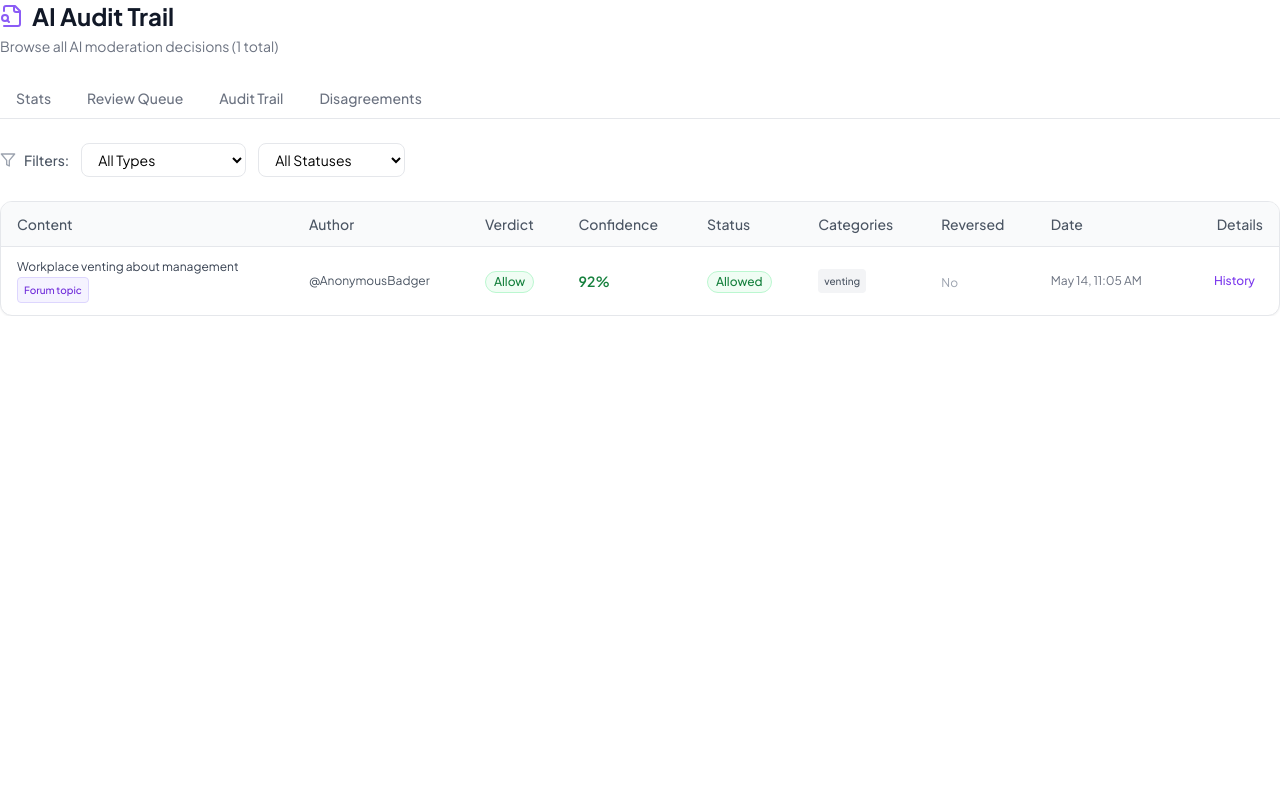
Test: AIAuditPage › opens detail modal with timeline on History click
Click the button "History" at (1234, 281), box 1206,269 -> 1263,293
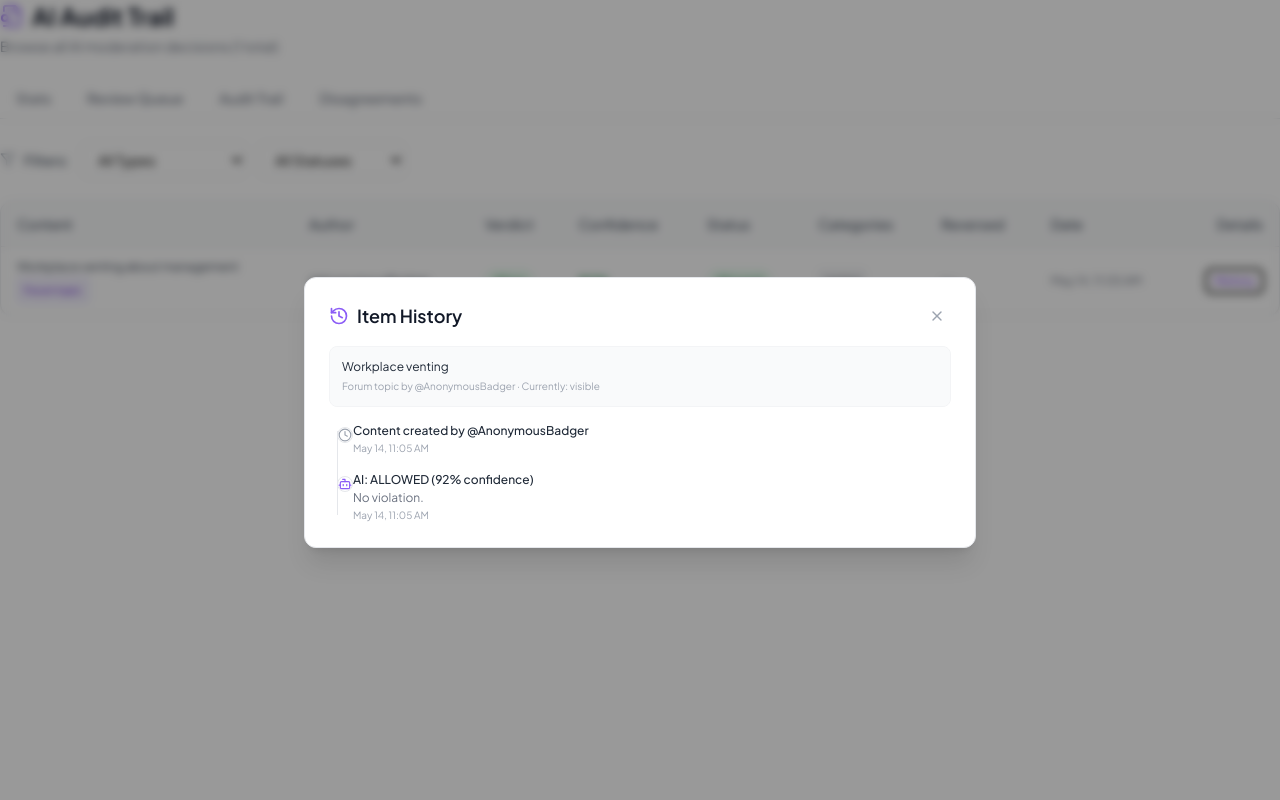
Expected: the heading "Item History" is shown, 329,302 -> 462,330
